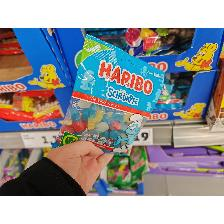Suessigkeit: (50, 33, 168, 157)
